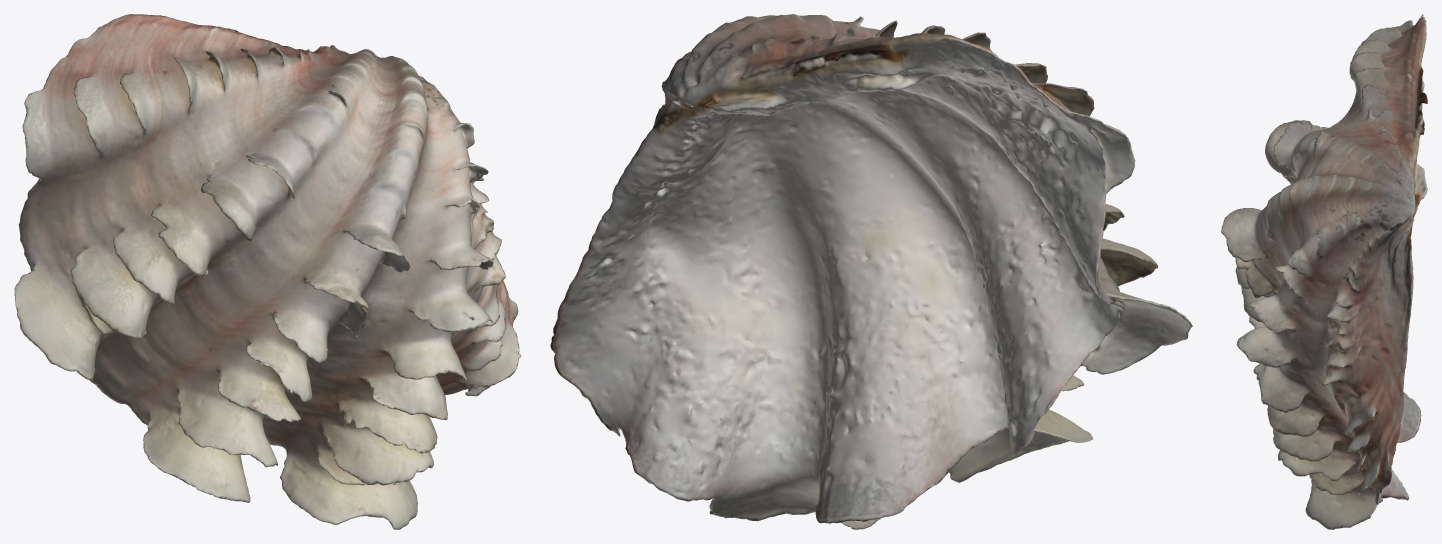
The model's file is smithsonian-tridacna-squamosa.glb.
The picture shows the model from 3 angles, left to right: view 1: azimuth 30°, elevation 25°; view 2: azimuth 150°, elevation 25°; view 3: azimuth 270°, elevation 25°; orthographic projection. The views are drawn at different scales.
Bounding box in the file's own units: 0.2539 × 0.2381 × 0.1075.
1 material, 1 textured.
